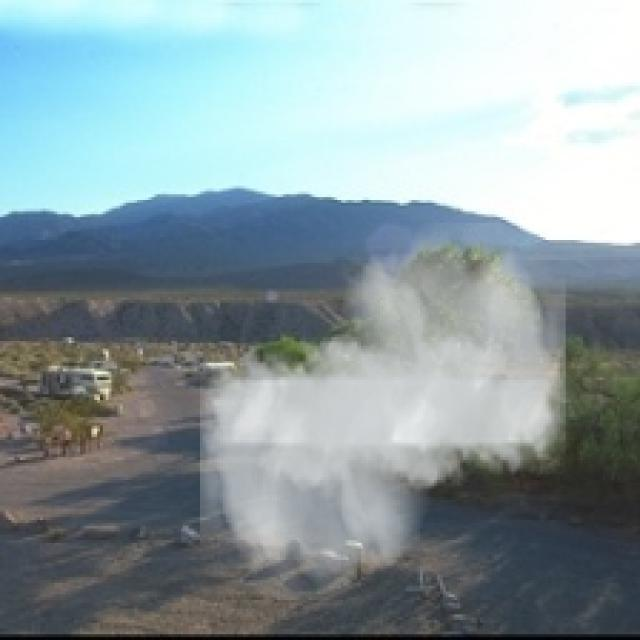Smoke: (200, 223, 566, 600)
